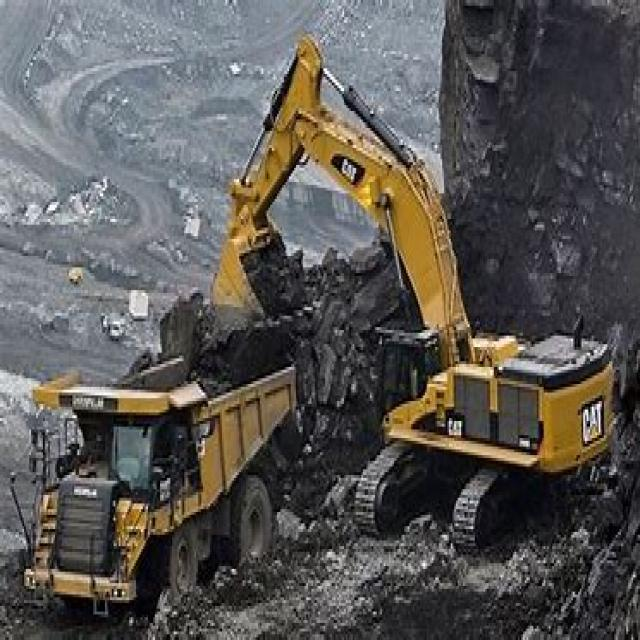dump_truck: (15, 322, 320, 620)
excavator: (210, 26, 616, 603)
